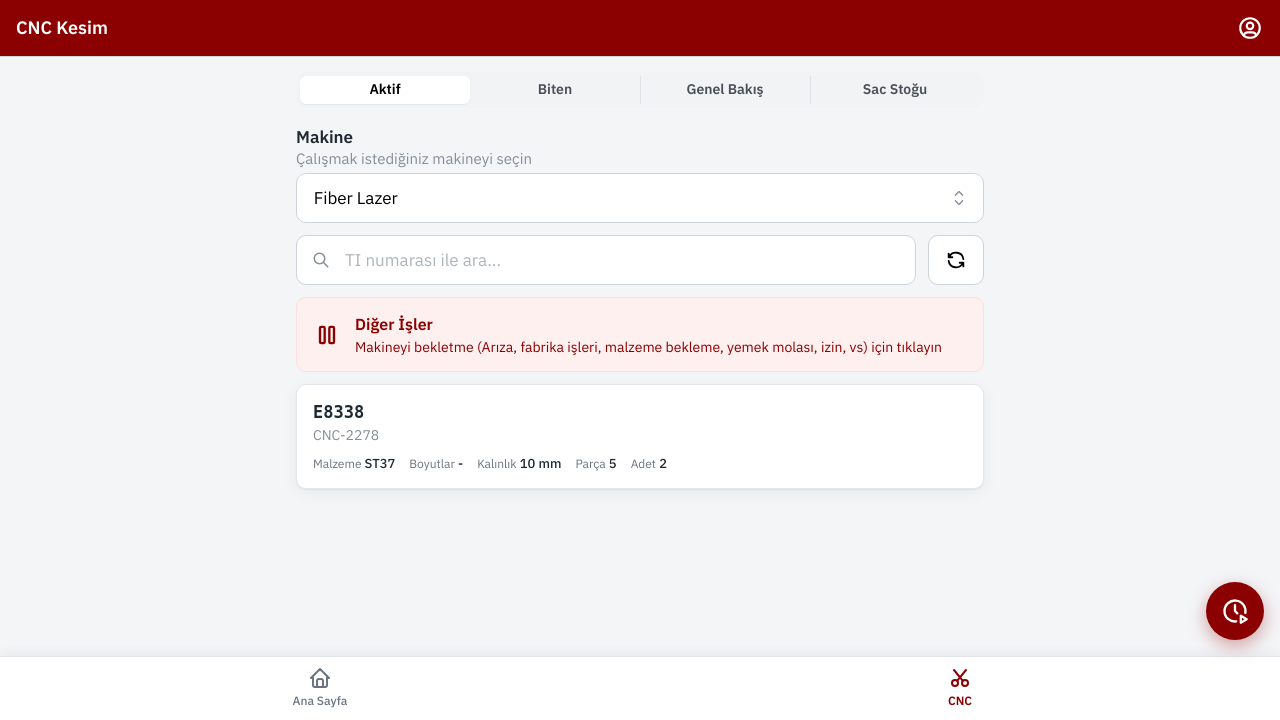
Scenario: cnc page › lists a machine’s cuts by kesim kodu and always offers Diğer İşler
Later steps or results of the test are not shown.
Step 1. Type "yok" into the field named "Kesim ara" → (606, 260), box top-left (296, 235), bottom-right (916, 285)
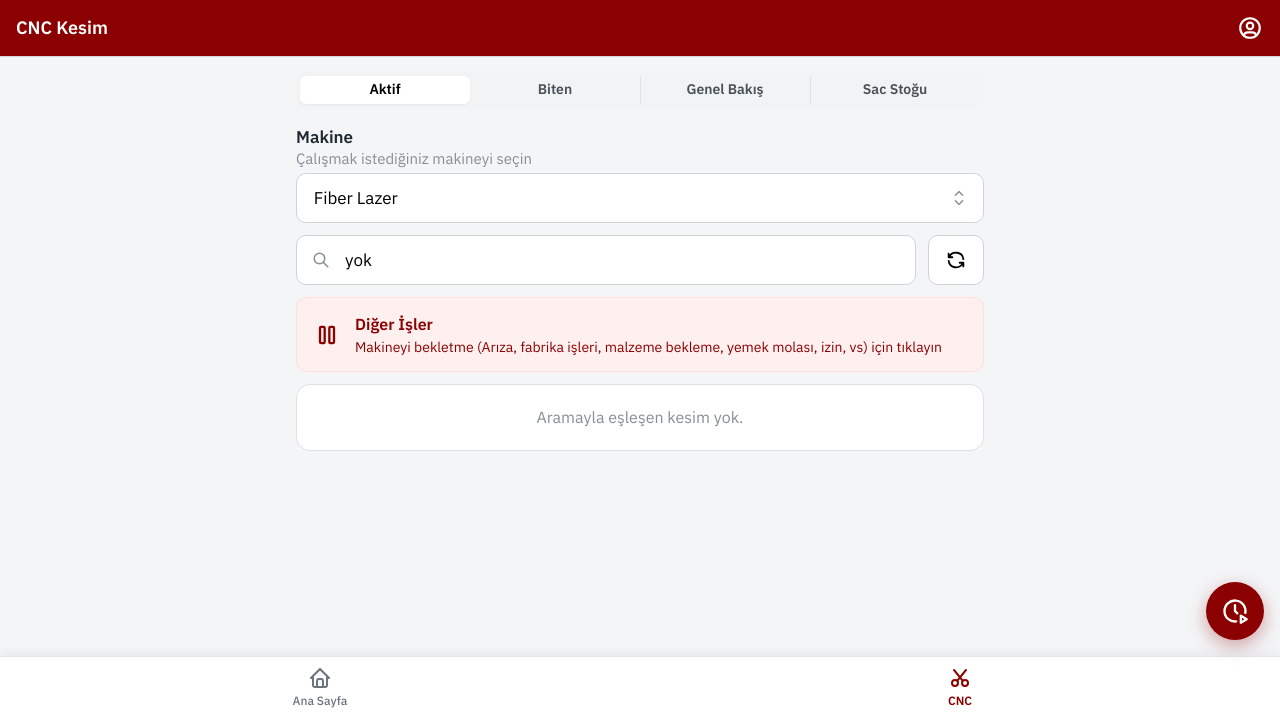
Expected: the text "Aramayla eşleşen kesim yok." is shown, top-left (536, 407), bottom-right (744, 427)
